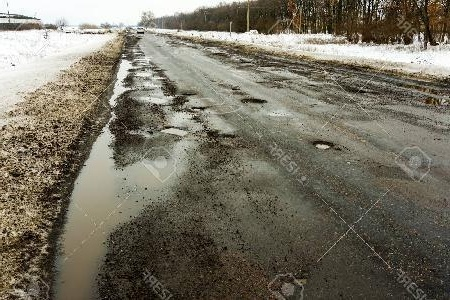pothole: (157, 125, 188, 137), (311, 139, 334, 151), (239, 95, 268, 104), (191, 104, 205, 111)
